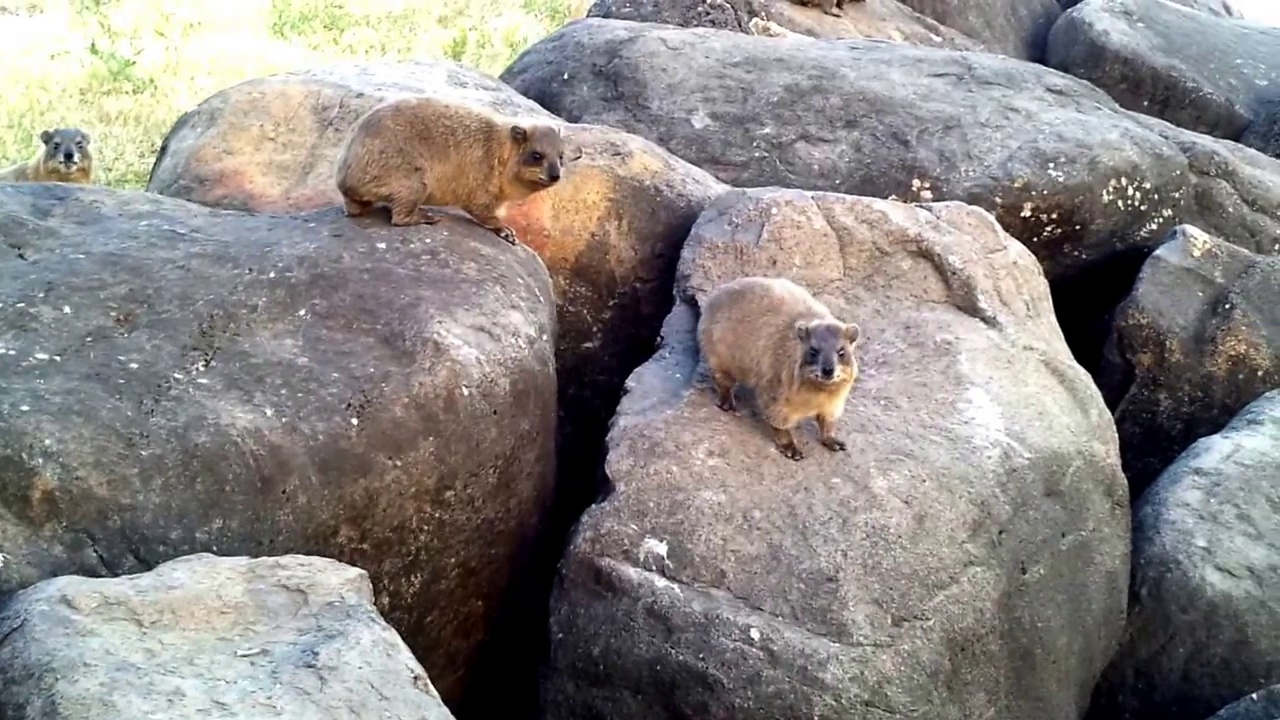Rock Hyrex: (335, 92, 567, 251), (700, 276, 863, 462), (1, 125, 93, 184)
